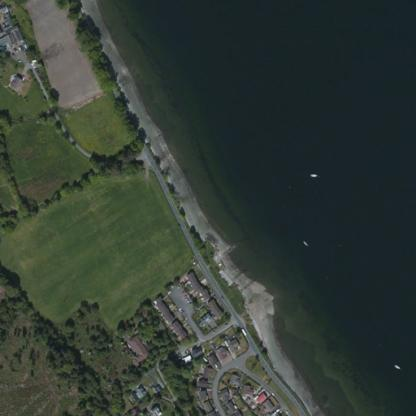ship: (387, 358, 408, 376), (294, 232, 313, 250), (304, 167, 323, 181)
